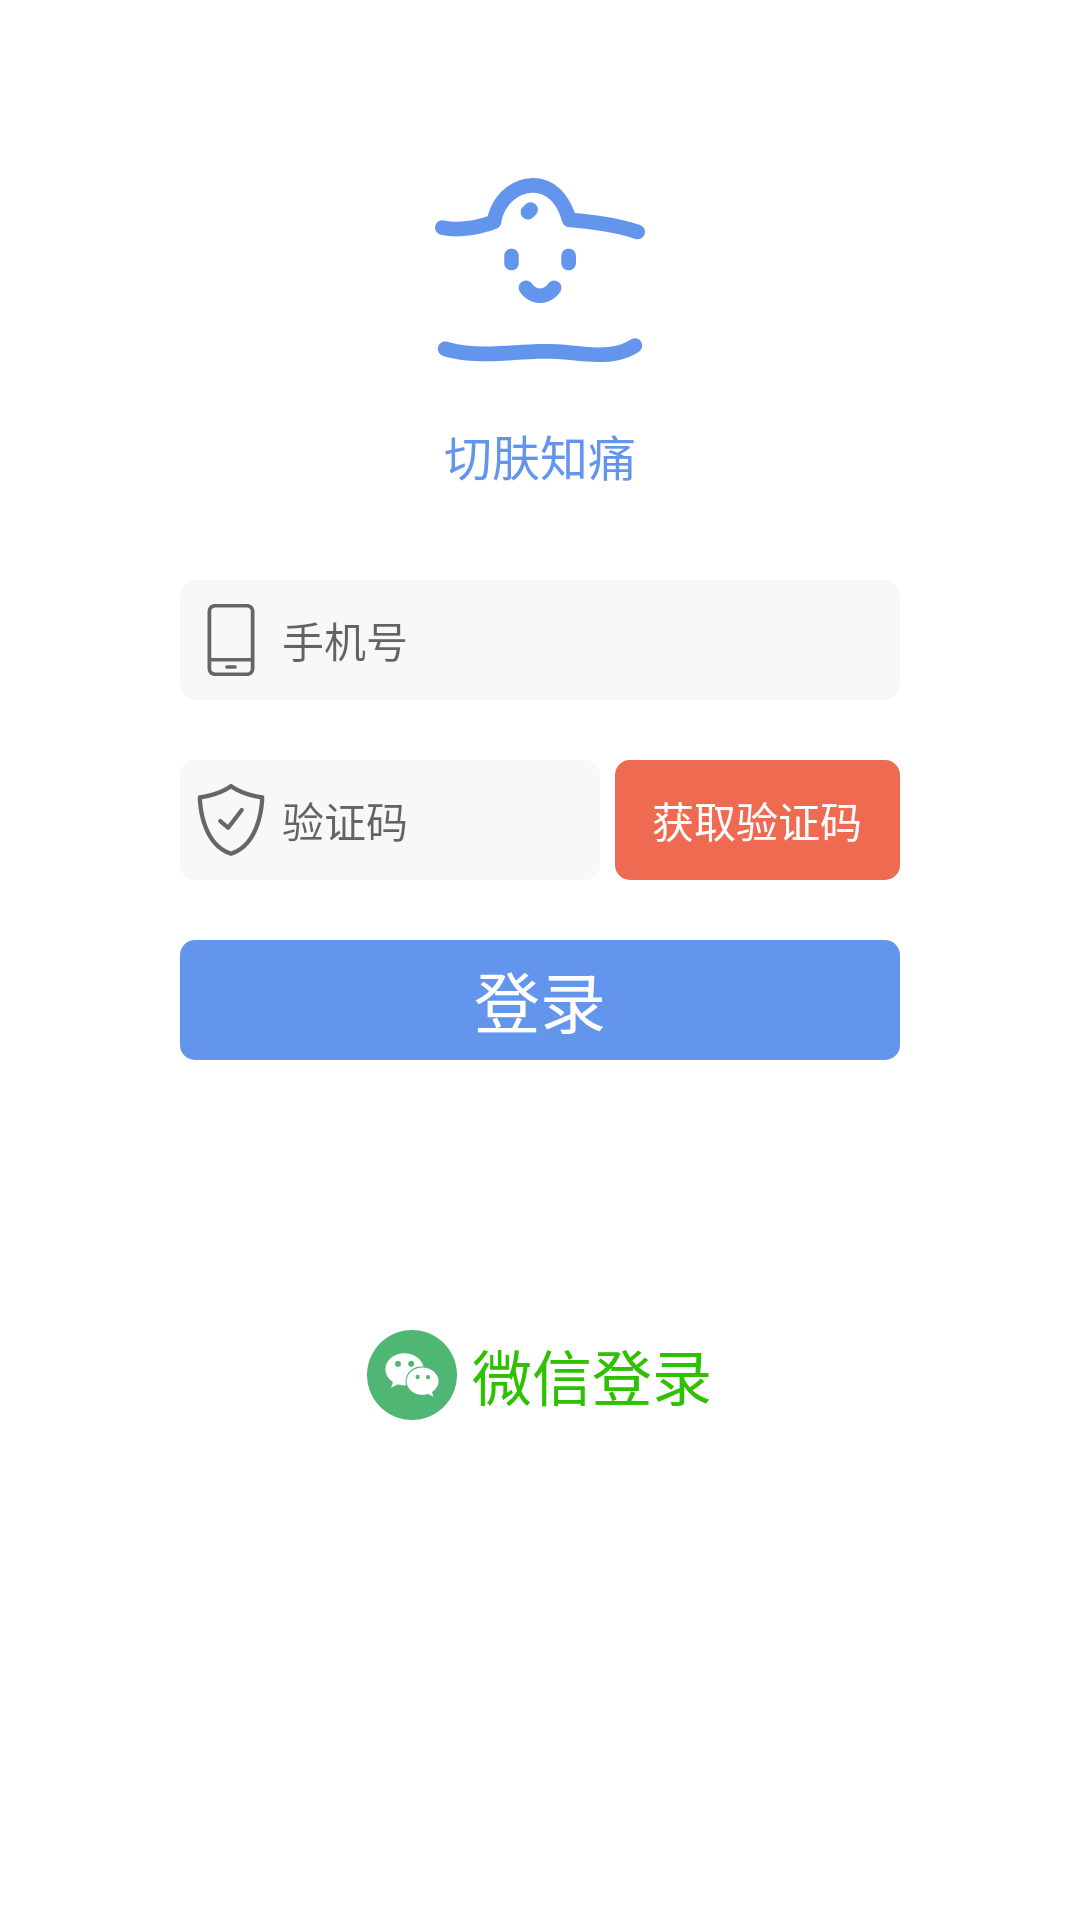

Screen size 1080w x 1920h. Icon name, then its box in pixels as (x1,y1,x2,y2):
这是应用程序图标: (435,178,645,362)
